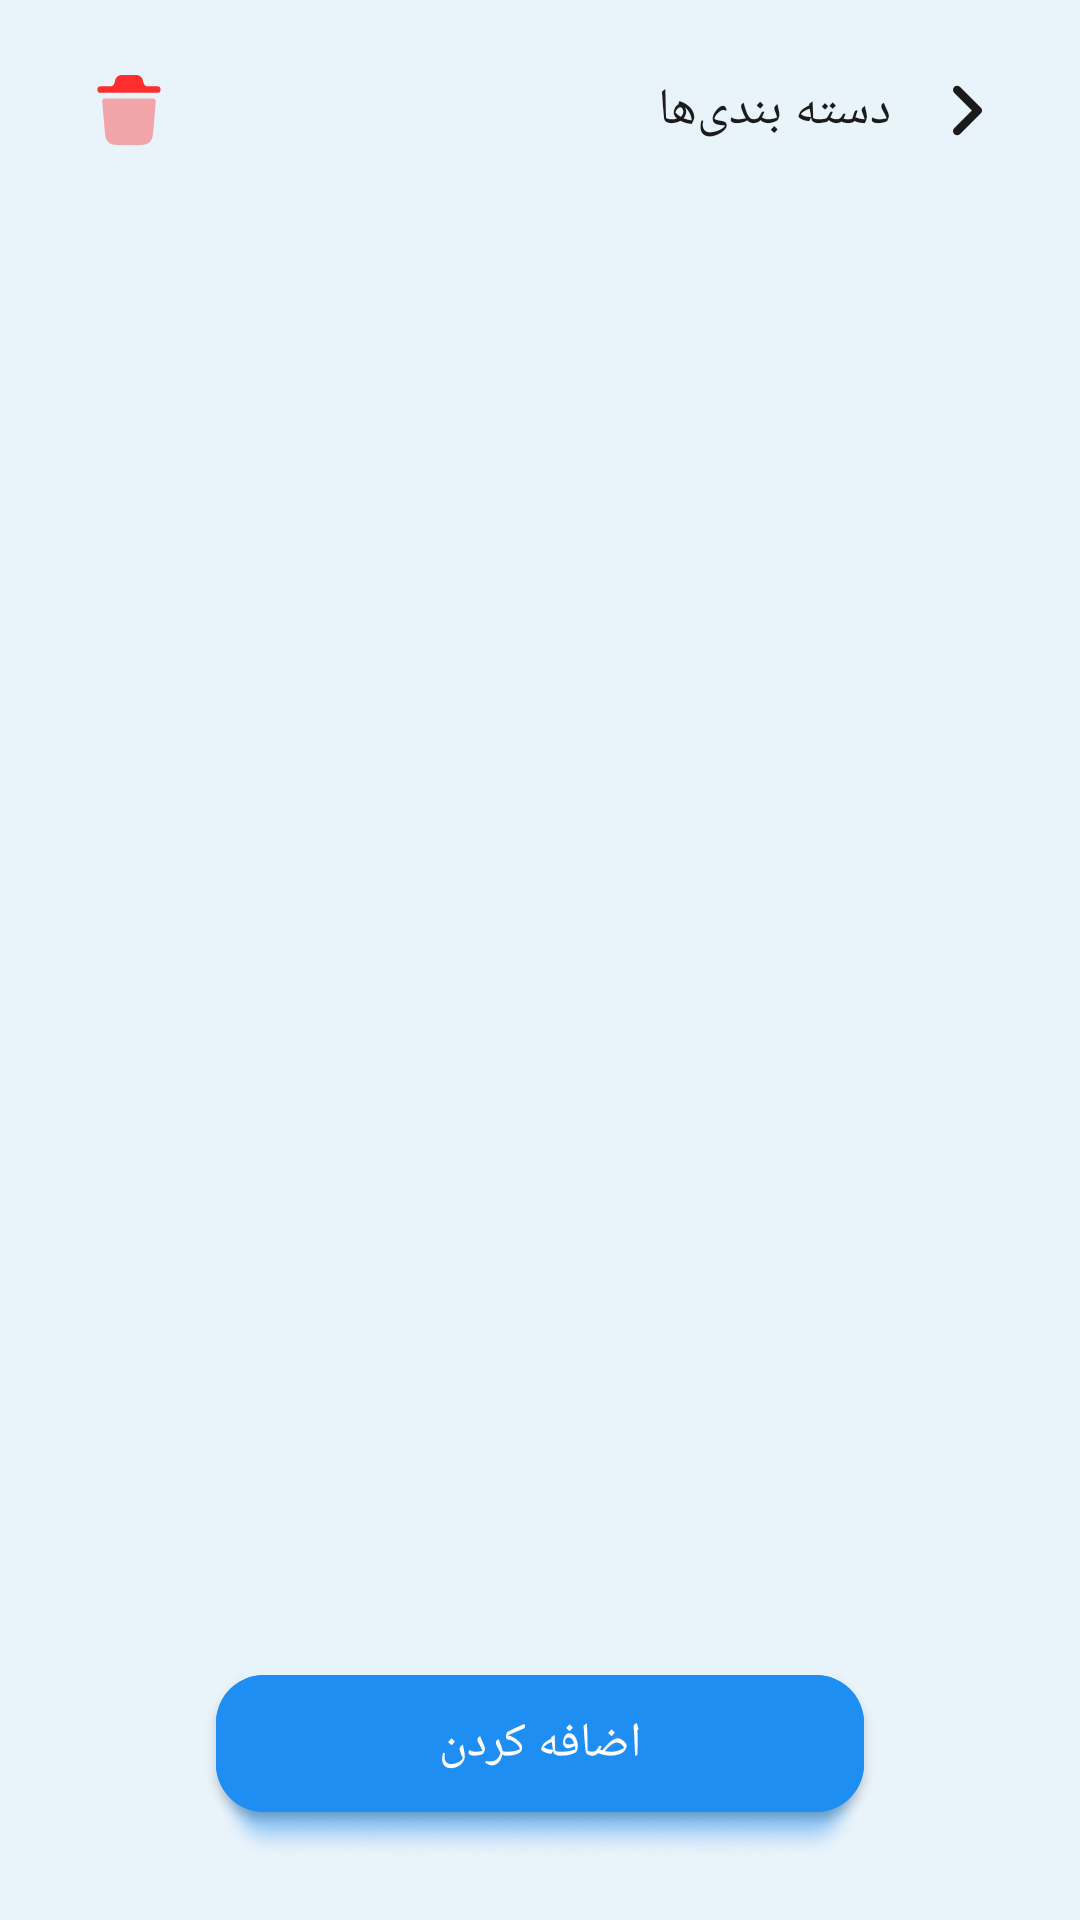

Screen size 1080*1920. Icon name, then its box in pixels as (x1,y1,x2,y2):
delete: (97,75,161,145)
بازگشت: (953,85,982,136)
